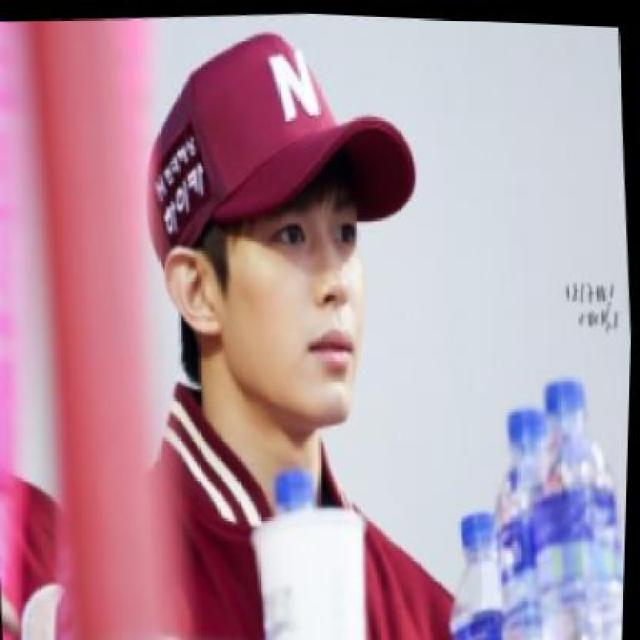hat: (130, 10, 425, 272)
